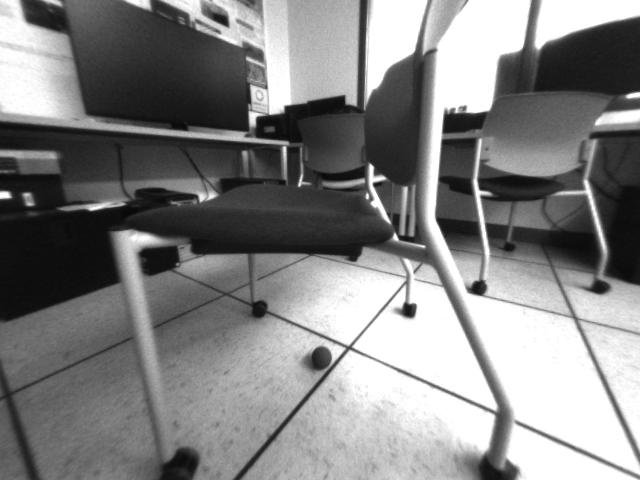dogtoy: (303, 339, 339, 372)
